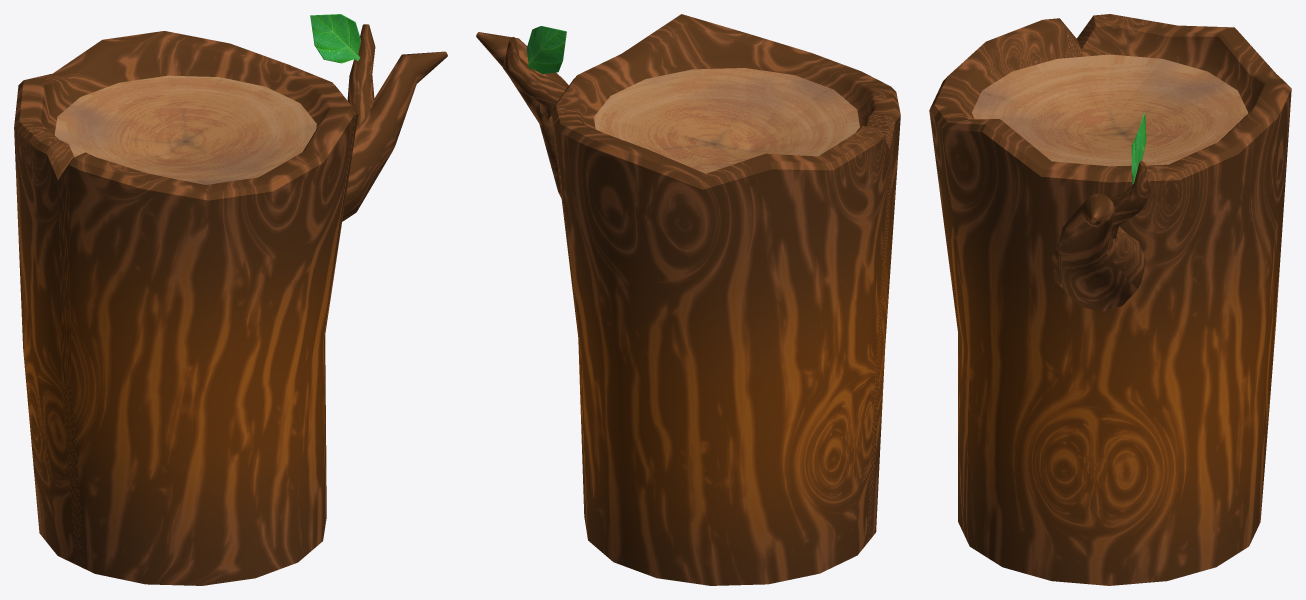
File: Modelling_log_1_object.FBX
3 renders of one model, left to right at view 1: azimuth 30°, elevation 25°; view 2: azimuth 150°, elevation 25°; view 3: azimuth 270°, elevation 25°, orthographic. The views are drawn at different scales.
Parts seen in each view (by area): view 1: Cylinder001; view 2: Cylinder001; view 3: Cylinder001.
Part boxes in pixels (x1,y1,x2,y2): Cylinder001: [14, 14, 447, 585]; Cylinder001: [476, 14, 900, 585]; Cylinder001: [929, 14, 1291, 585].
Size of the model in its own units: 72.85 by 79.79 by 54.31.
1 material, 1 textured.
